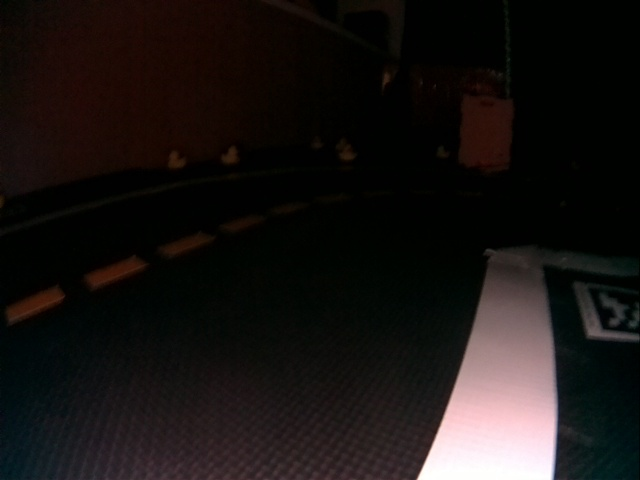Duckie: (220, 143, 239, 165), (166, 151, 184, 167), (338, 147, 356, 163)
QR code: (575, 281, 639, 341)
